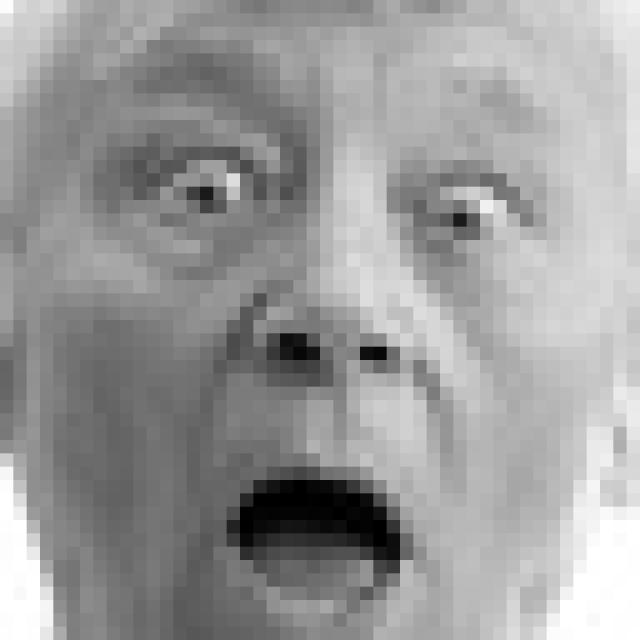surprise: (99, 55, 569, 640)
